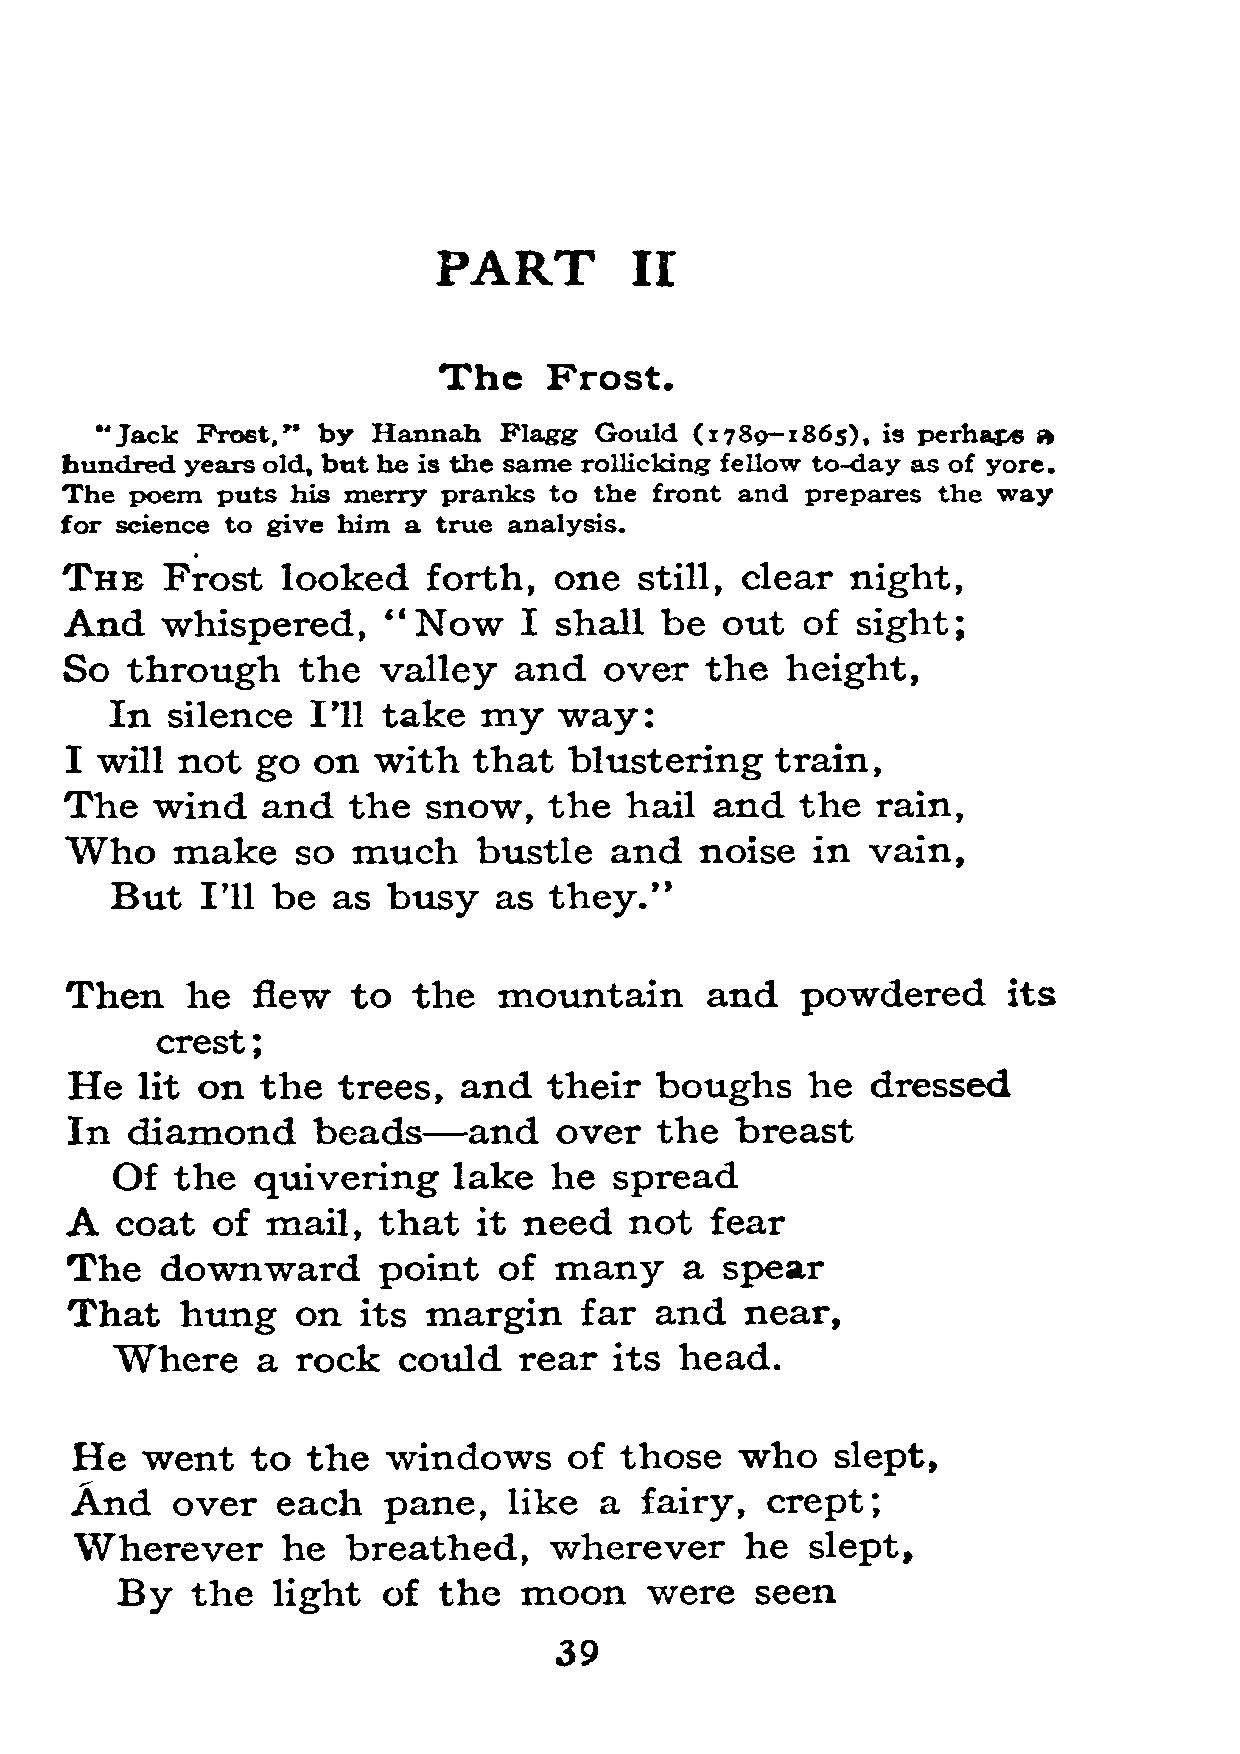chapter: (432, 242, 676, 395)
content: (54, 416, 1060, 1618)
content_pagenumber: (552, 1637, 603, 1672)
